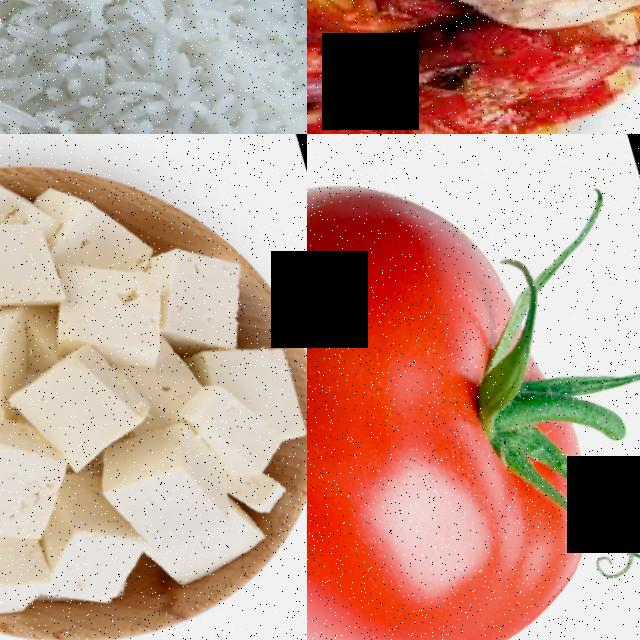tofu: (0, 314, 159, 475), (86, 405, 237, 553), (130, 216, 257, 355), (180, 355, 289, 479), (0, 188, 71, 329), (0, 407, 56, 554), (0, 520, 53, 630)
tomato: (307, 134, 637, 640)
white rice: (0, 0, 307, 134)
